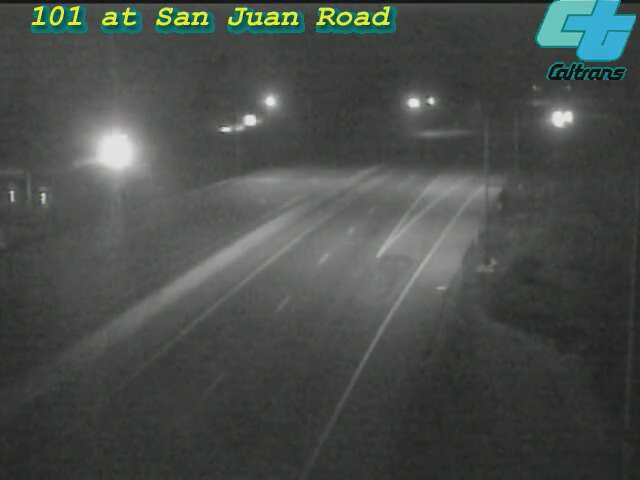vehicle: (530, 95, 580, 145), (544, 92, 594, 142)
